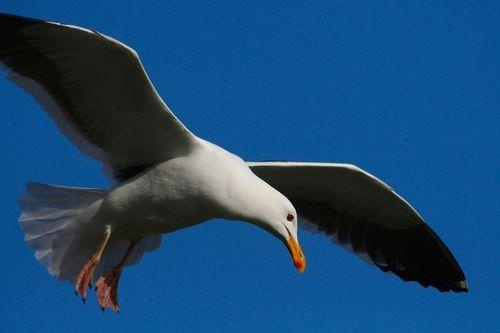bird: (1, 12, 471, 315)
